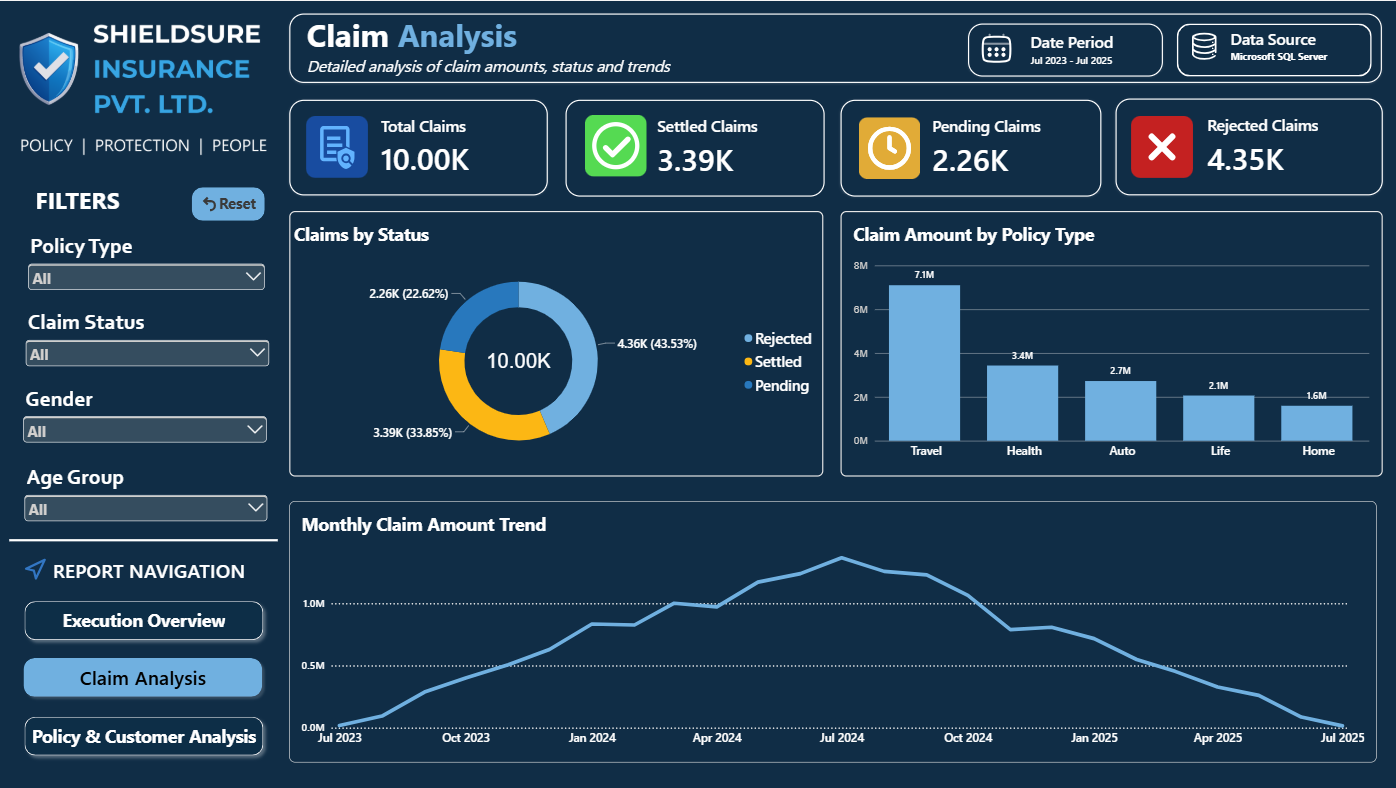

The dashboard page shown, as its layout file describes it:
{"tool":"powerbi","page":{"name":"Claim Analysis","canvas":[1920,1080],"ordinal":1},"visuals":[{"type":"slicer","fields":{"Values":["InsuranceData.ClaimStatus"]},"box":[30,420,347.5,105],"z":0},{"type":"slicer","fields":{"Values":["InsuranceData.PolicyType"]},"box":[33.5,314.9,338.3,105.5],"z":1000},{"type":"cardVisual","fields":{"Data":["Claim Measure.Settled Claims"]},"box":[777.5,135,355,132.5],"z":2000},{"type":"cardVisual","fields":{"Data":["Claim Measure.Pending Claims"]},"box":[1155,135,357.5,132.5],"z":3000},{"type":"cardVisual","fields":{"Data":["Claim Measure.Rejected Claims"]},"box":[1531.9,133,366.1,133],"z":4000},{"type":"donutChart","title":"Claims by Status","fields":{"Category":["InsuranceData.ClaimStatus"],"Y":["CountNonNull(InsuranceData.ClaimStatus)"]},"box":[399.8,287.7,732.3,364.3],"z":5000},{"type":"clusteredColumnChart","title":" Claim Amount by Policy Type","fields":{"Category":["InsuranceData.PolicyType"],"Y":["Claim Measure.Total Claim Amount"]},"box":[1154.5,287.7,743.5,364.3],"z":6000},{"type":"shape","box":[1615.5,30,267.3,72.7],"z":6500},{"type":"shape","box":[400,17.5,1497.5,95],"z":7000},{"type":"cardVisual","fields":{"Data":["InsuranceData.Date Period"]},"box":[1329.1,30,267.3,72.7],"z":7500},{"type":"slicer","fields":{"Values":["InsuranceData.Age Group"]},"box":[28.5,631.5,346.7,107.2],"z":8000},{"type":"slicer","fields":{"Values":["InsuranceData.Gender"]},"box":[27.5,525,347.5,105],"z":9000},{"type":"textbox","box":[400,760,214,150],"z":10000},{"type":"textbox","box":[400,930,174,94],"z":11000},{"type":"textbox","box":[52,250.5,126,53],"z":12000},{"type":"cardVisual","fields":{"Data":["Claim Measure.Total Claims"]},"box":[399.8,134.5,354.7,131.1],"z":13000},{"type":"image","box":[16,18,368,198],"z":14000},{"type":"textbox","box":[422.5,17.5,712.5,95],"z":15000},{"type":"image","box":[1335,35,68.3,60],"z":16000},{"type":"image","box":[422.2,156.9,86.7,85],"z":17000},{"type":"image","box":[803,156,86.7,85],"z":18000},{"type":"image","box":[1179,159,86.7,85],"z":19000},{"type":"image","box":[1553,158,86.7,85],"z":20000},{"type":"image","box":[1636.7,41.3,40,43.3],"z":21000},{"type":"textbox","box":[1688.5,37.1,177.5,53.3],"z":22000},{"type":"shape","box":[15.9,715.5,368.2,45.9],"z":23000},{"type":"textbox","box":[75.2,763.1,325.7,57.8],"z":24000},{"type":"image","box":[30.8,763.1,41.3,32.7],"z":25000},{"type":"pageNavigator","box":[26.7,813.3,345,231.7],"z":26000},{"type":"lineChart","title":"Monthly Claim Amount Trend","fields":{"Category":["InsuranceData.ClaimDate.Variation.Date Hierarchy.Year","InsuranceData.ClaimDate.Variation.Date Hierarchy.Month"],"Y":["Sum(InsuranceData.ClaimAmount)"]},"box":[399.8,685.6,1490.7,358.7],"z":27000},{"type":"actionButton","box":[265,255,100,46],"z":28000}]}

Visuals, with their boxes in screenshot pixels (x1, y1, x2, y2), scaled from the page's 1920x1080 canvas onto the 1396x788 screenshot:
slicer - InsuranceData.ClaimStatus: {"left": 22, "top": 306, "right": 274, "bottom": 383}
slicer - InsuranceData.PolicyType: {"left": 24, "top": 230, "right": 270, "bottom": 307}
cardVisual - Claim Measure.Settled Claims: {"left": 565, "top": 98, "right": 823, "bottom": 195}
cardVisual - Claim Measure.Pending Claims: {"left": 840, "top": 98, "right": 1100, "bottom": 195}
cardVisual - Claim Measure.Rejected Claims: {"left": 1114, "top": 97, "right": 1380, "bottom": 194}
"Claims by Status" donutChart: {"left": 291, "top": 210, "right": 823, "bottom": 476}
" Claim Amount by Policy Type" clusteredColumnChart: {"left": 839, "top": 210, "right": 1380, "bottom": 476}
shape: {"left": 1175, "top": 22, "right": 1369, "bottom": 75}
shape: {"left": 291, "top": 13, "right": 1380, "bottom": 82}
cardVisual - InsuranceData.Date Period: {"left": 966, "top": 22, "right": 1161, "bottom": 75}
slicer - InsuranceData.Age Group: {"left": 21, "top": 461, "right": 273, "bottom": 539}
slicer - InsuranceData.Gender: {"left": 20, "top": 383, "right": 273, "bottom": 460}
textbox: {"left": 291, "top": 555, "right": 446, "bottom": 664}
textbox: {"left": 291, "top": 679, "right": 417, "bottom": 747}
textbox: {"left": 38, "top": 183, "right": 129, "bottom": 221}
cardVisual - Claim Measure.Total Claims: {"left": 291, "top": 98, "right": 549, "bottom": 194}
image: {"left": 12, "top": 13, "right": 279, "bottom": 158}
textbox: {"left": 307, "top": 13, "right": 825, "bottom": 82}
image: {"left": 971, "top": 26, "right": 1020, "bottom": 69}
image: {"left": 307, "top": 114, "right": 370, "bottom": 176}
image: {"left": 584, "top": 114, "right": 647, "bottom": 176}
image: {"left": 857, "top": 116, "right": 920, "bottom": 178}
image: {"left": 1129, "top": 115, "right": 1192, "bottom": 177}
image: {"left": 1190, "top": 30, "right": 1219, "bottom": 62}
textbox: {"left": 1228, "top": 27, "right": 1357, "bottom": 66}
shape: {"left": 12, "top": 522, "right": 279, "bottom": 556}
textbox: {"left": 55, "top": 557, "right": 291, "bottom": 599}
image: {"left": 22, "top": 557, "right": 52, "bottom": 581}
pageNavigator: {"left": 19, "top": 593, "right": 270, "bottom": 762}
"Monthly Claim Amount Trend" lineChart: {"left": 291, "top": 500, "right": 1375, "bottom": 762}
actionButton: {"left": 193, "top": 186, "right": 265, "bottom": 220}
